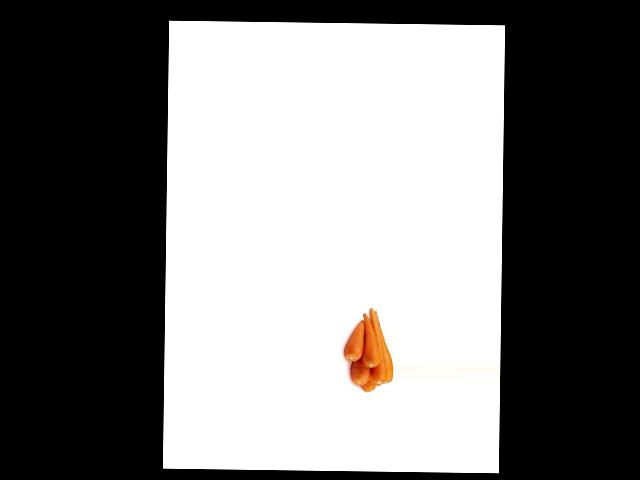carrot: (342, 316, 365, 361)
